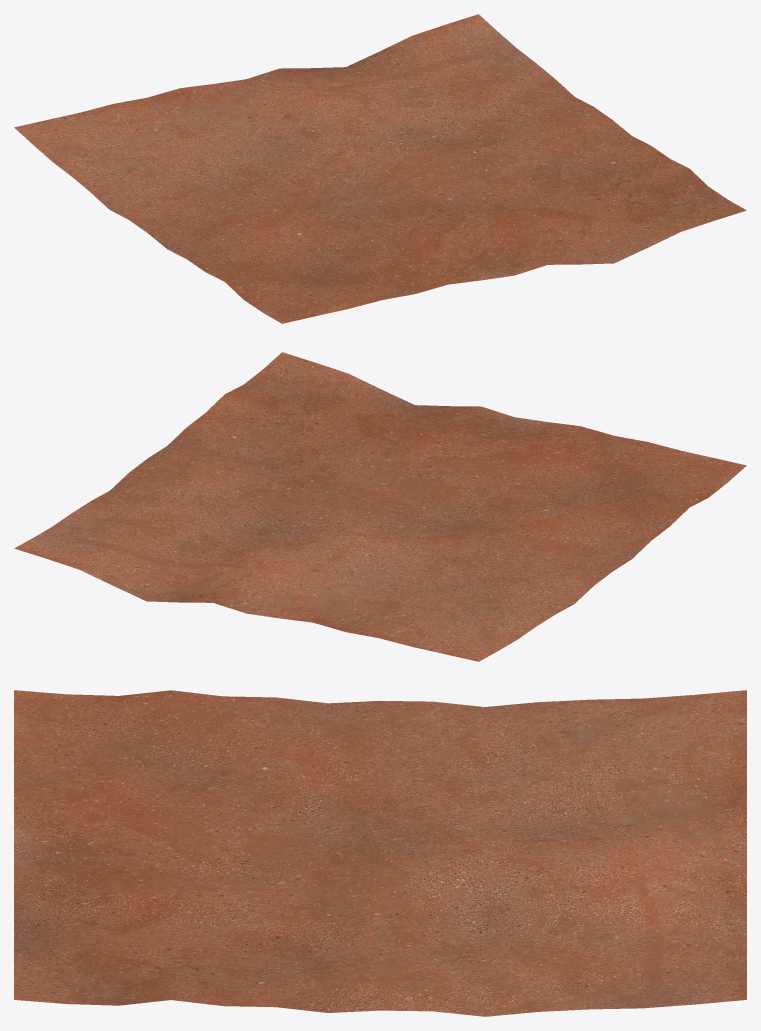
Rendered from Ground_flat_03_M03_LOD1.fbx.
3 views of the same model, one above another, from view 1: azimuth 30°, elevation 25°; view 2: azimuth 150°, elevation 25°; view 3: azimuth 270°, elevation 25° (orthographic). The views are drawn at different scales.
Visible parts, largest first — view 1: Ground_flat_03_M03_LOD1; view 2: Ground_flat_03_M03_LOD1; view 3: Ground_flat_03_M03_LOD1.
Boxes of the visible parts, box(x1,y1,x2,y2) form: Ground_flat_03_M03_LOD1: box(14, 14, 746, 323); Ground_flat_03_M03_LOD1: box(14, 352, 746, 661); Ground_flat_03_M03_LOD1: box(14, 690, 746, 1016).
Size of the model in its own units: 2000 by 93.73 by 2000.
